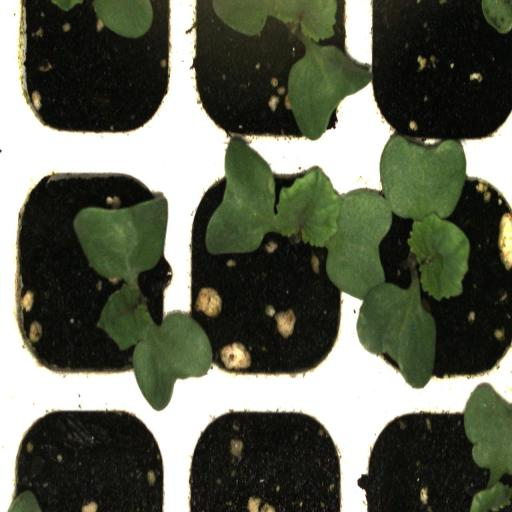seedling: (5, 152, 179, 394), (181, 152, 355, 394), (357, 146, 512, 393), (182, 0, 356, 151)
